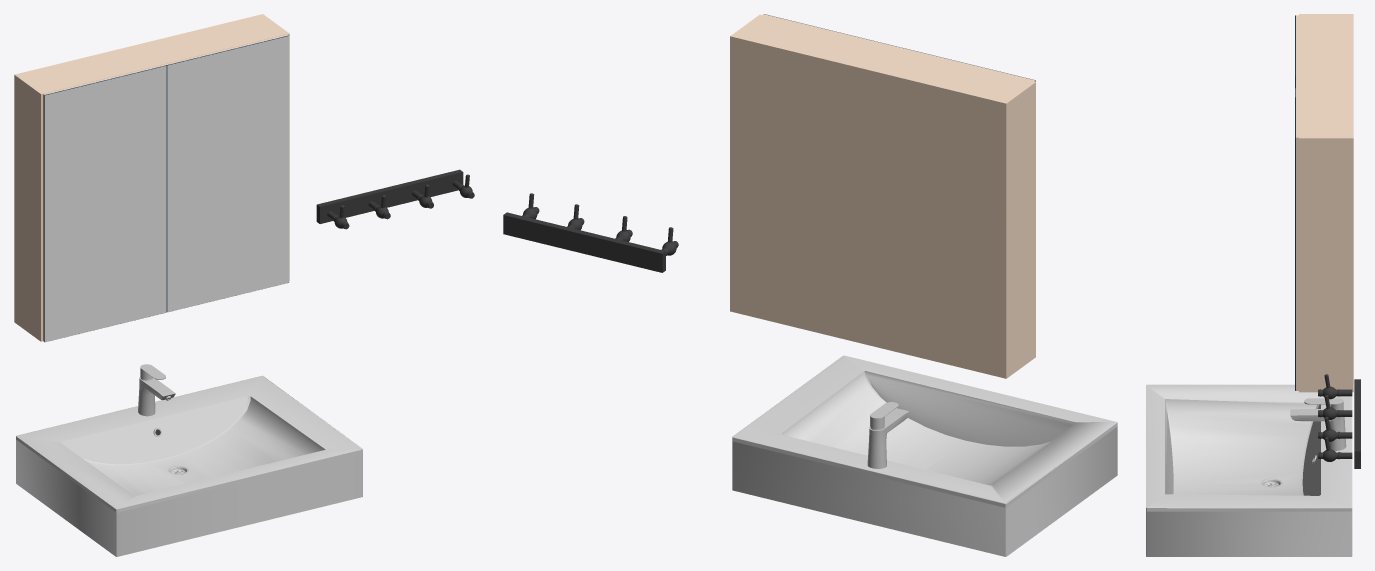
Rendered from Sink Collection.fbx.
The picture shows the model from 3 angles, left to right: view 1: azimuth 30°, elevation 25°; view 2: azimuth 150°, elevation 25°; view 3: azimuth 270°, elevation 25°; orthographic projection. The views are drawn at different scales.
Visible parts, largest first — view 1: Sink, rightdoor, leftdoor, Cabitnet, Knage, faucet; view 2: Cabitnet, Sink, Knage, faucet; view 3: Sink, Cabitnet, Knage, leftdoor, faucet, rightdoor.
Boxes of the visible parts, x1,y1,x2,y2 form: Sink: [16, 375, 362, 556]; rightdoor: [43, 64, 166, 342]; leftdoor: [165, 34, 289, 312]; Cabitnet: [14, 14, 289, 341]; Knage: [316, 169, 474, 229]; faucet: [138, 364, 175, 416]; Cabitnet: [730, 14, 1035, 378]; Sink: [732, 355, 1117, 556]; Knage: [503, 193, 678, 272]; faucet: [867, 402, 909, 468]; Sink: [1146, 384, 1352, 556]; Cabitnet: [1299, 14, 1353, 392]; Knage: [1318, 374, 1360, 468]; leftdoor: [1295, 76, 1298, 390]; faucet: [1290, 398, 1346, 450]; rightdoor: [1295, 15, 1298, 137].
Size of the model in its own units: 108 by 94.34 by 43.86.
